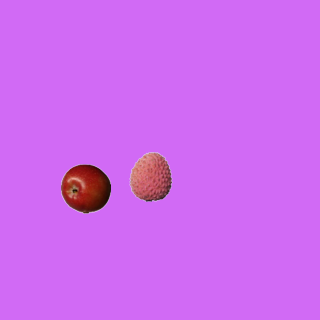Apple Braeburn: (60, 163, 110, 213)
Lychee: (125, 151, 175, 201)
